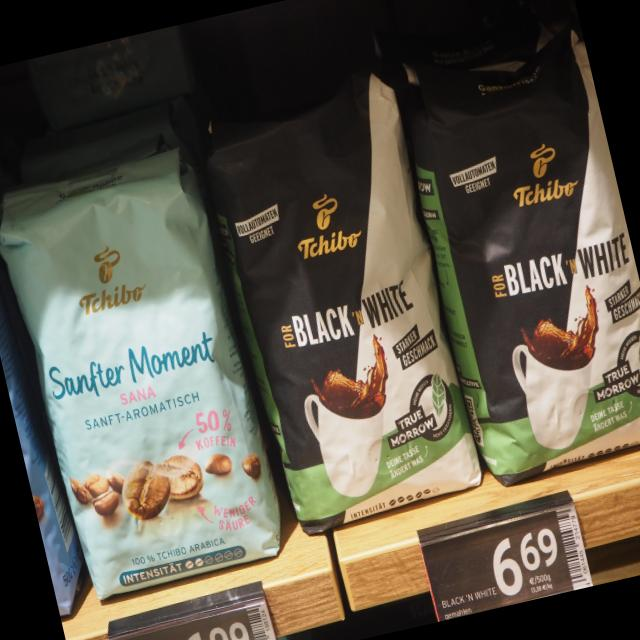BW Bohne: (186, 59, 494, 544), (385, 18, 640, 493)
SM Bohne: (0, 132, 293, 611)
